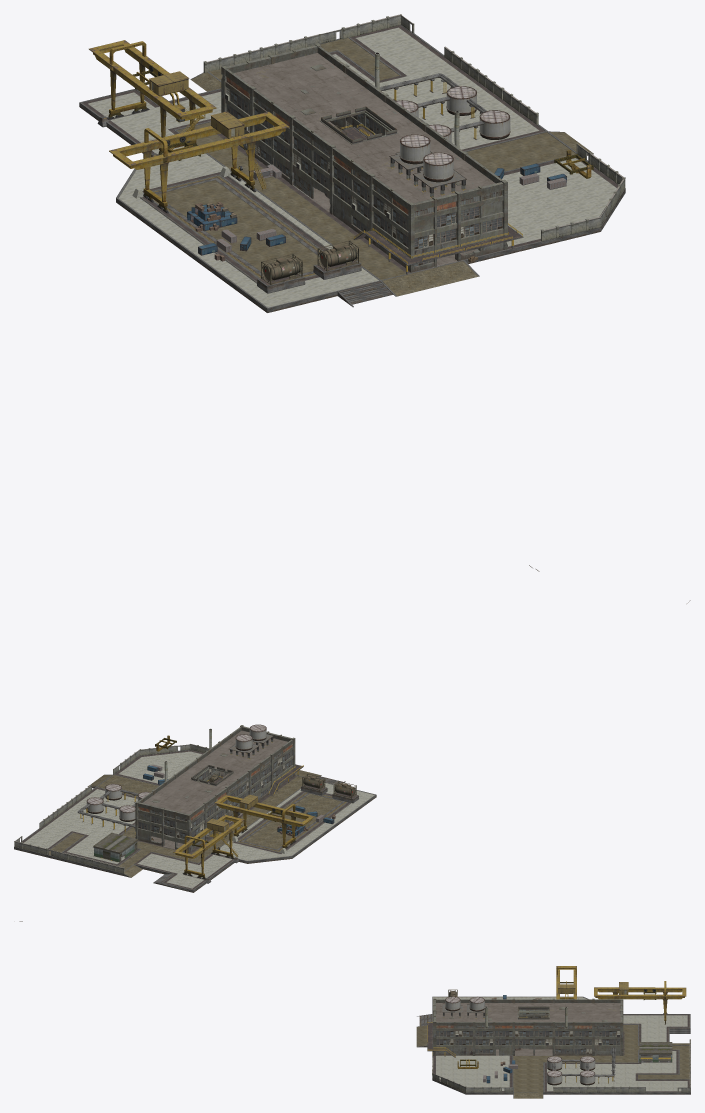
Rendered from ZonaFactory.fbx.
3 views of the same model, one above another, from view 1: azimuth 30°, elevation 25°; view 2: azimuth 150°, elevation 25°; view 3: azimuth 270°, elevation 25° (orthographic). The views are drawn at different scales.
Parts seen in each view (by area): view 1: CementFactory_ground_02_LOD0_1, Factory_Building_LOD0_2, Crane_LOD0_0, Crane_LOD0_0.001, Combined_Mesh_(root:_scene)_41.005, Combined_Mesh_(root:_scene)_8.109, Combined_Mesh_(root:_scene)_34.000, Combined_Mesh_(root:_scene)_34.001, polySurface342_0.000_polySurface342_0.003, polySurface342_0.003_polySurface342_0.004; view 2: CementFactory_ground_02_LOD0_1, Factory_Building_LOD0_2, Crane_LOD0_0, Crane_LOD0_0.001, M_Warehouse_LOD0_0.005, Combined_Mesh_(root:_scene)_41.005; view 3: CementFactory_ground_02_LOD0_1, Factory_Building_LOD0_2, Crane_LOD0_0.001, Combined_Mesh_(root:_scene)_41.005, M_Warehouse_LOD0_0.005, Crane_LOD0_0, Combined_Mesh_(root:_scene)_34.000, Combined_Mesh_(root:_scene)_34.001, Combined_Mesh_(root:_scene)_8.109.
Boxes of the visible parts, x1,y1,x2,y2 form: CementFactory_ground_02_LOD0_1: (79,24,625,312); Factory_Building_LOD0_2: (221,43,507,272); Crane_LOD0_0: (109,111,289,213); Crane_LOD0_0.001: (89,40,216,155); Combined_Mesh_(root:_scene)_41.005: (396,86,510,142); Combined_Mesh_(root:_scene)_8.109: (353,223,523,265); Combined_Mesh_(root:_scene)_34.000: (413,152,466,197); Combined_Mesh_(root:_scene)_34.001: (389,134,432,179); polySurface342_0.000_polySurface342_0.003: (261,253,302,285); polySurface342_0.003_polySurface342_0.004: (317,240,359,271); CementFactory_ground_02_LOD0_1: (14,750,376,892); Factory_Building_LOD0_2: (135,725,295,852); Crane_LOD0_0: (214,794,314,848); Crane_LOD0_0.001: (173,814,244,879); M_Warehouse_LOD0_0.005: (93,832,138,862); Combined_Mesh_(root:_scene)_41.005: (86,784,149,821); CementFactory_ground_02_LOD0_1: (416,996,690,1098); Factory_Building_LOD0_2: (426,998,623,1055); Crane_LOD0_0.001: (594,981,686,1024); Combined_Mesh_(root:_scene)_41.005: (546,1056,595,1085); M_Warehouse_LOD0_0.005: (639,1042,672,1062); Crane_LOD0_0: (556,966,576,999); Combined_Mesh_(root:_scene)_34.000: (442,996,462,1017); Combined_Mesh_(root:_scene)_34.001: (467,996,486,1018); Combined_Mesh_(root:_scene)_8.109: (427,1022,455,1057).
Size of the model in its own units: 17488 by 3068 by 36892.
